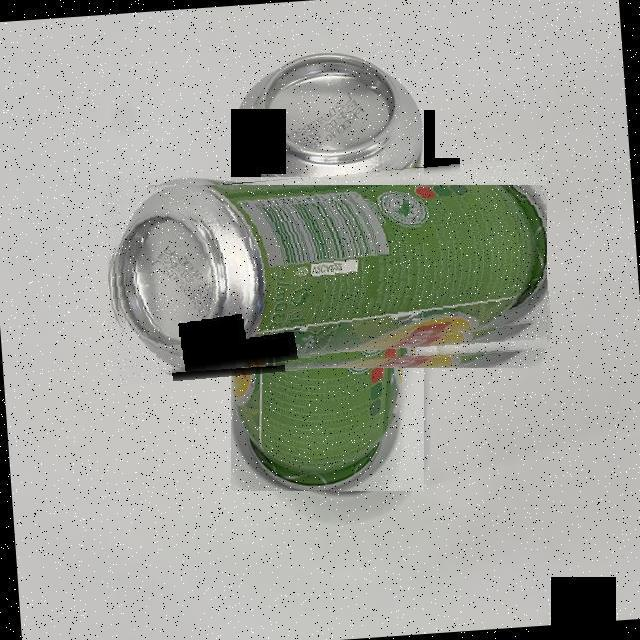recyclable: (115, 185, 547, 373)
